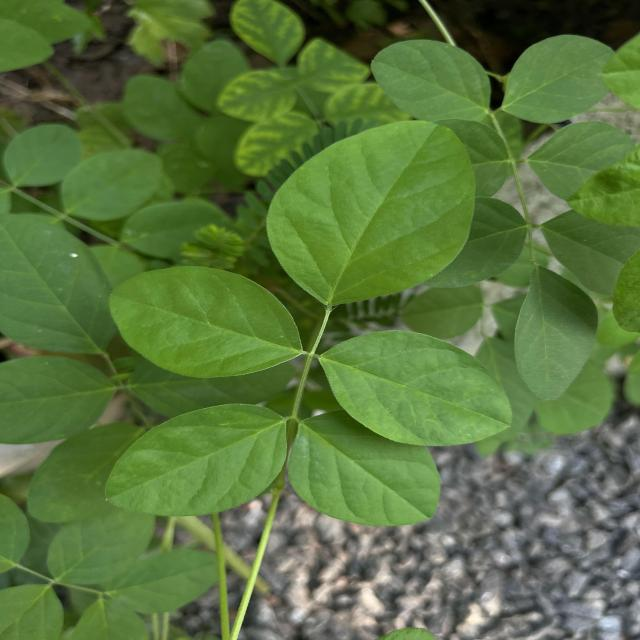Clitoria ternatea: (263, 118, 479, 309), (316, 327, 516, 448), (107, 264, 305, 381), (102, 402, 289, 518), (284, 407, 444, 528)
